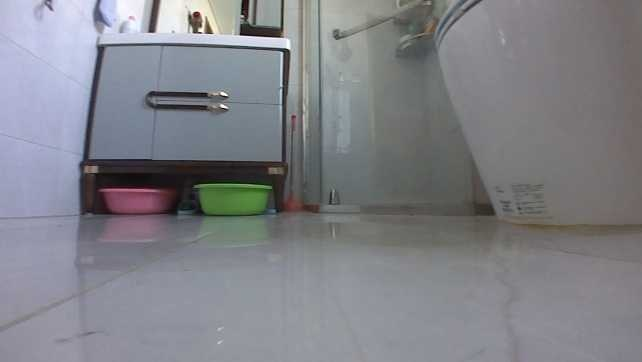toilet: (431, 0, 640, 233)
washstand: (77, 31, 290, 214)
